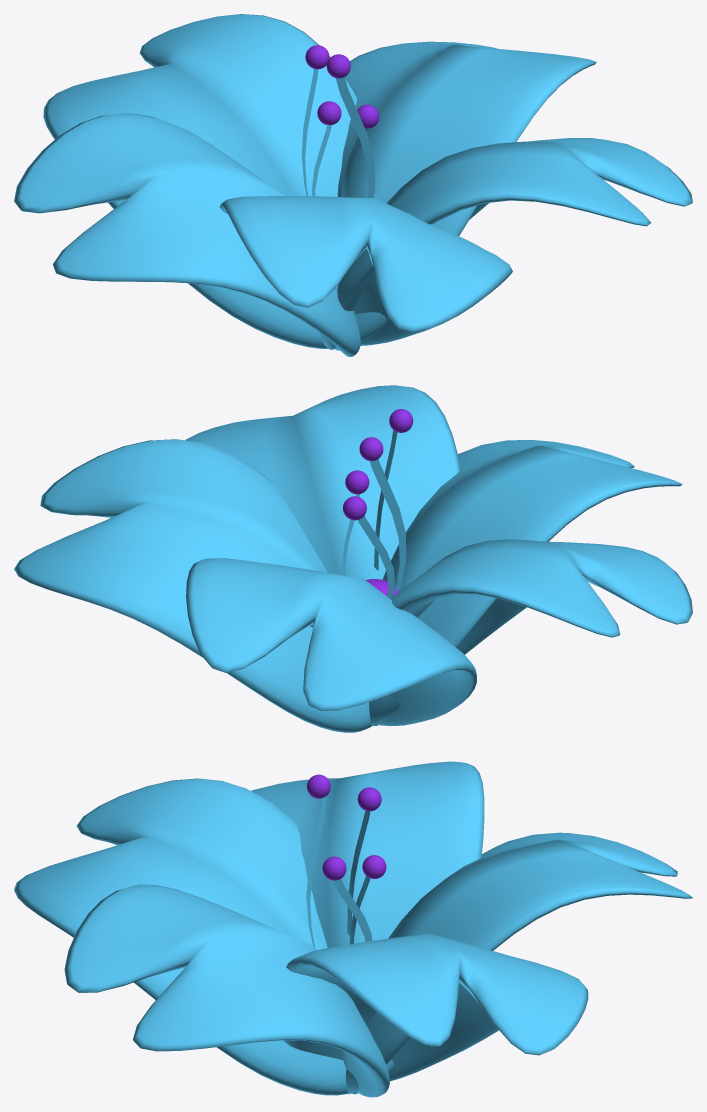
Rendered from Blume.fbx.
The picture shows the model from 3 angles, top to bottom: view 1: azimuth 30°, elevation 25°; view 2: azimuth 150°, elevation 25°; view 3: azimuth 270°, elevation 25°; orthographic projection.
Visible parts, largest first — view 1: Plane.031, Plane.027, Plane.030, Plane.028, Plane.029, Plane.034, Plane.032; view 2: Plane.028, Plane.027, Plane.029, Plane.030, Plane.031, Plane.032, Plane.035, Plane.034; view 3: Plane.030, Plane.029, Plane.028, Plane.031, Plane.027, Plane.034, Plane.032, Plane.033.
Boxes of the visible parts, x1,y1,x2,y2 form: Plane.031: (14, 113, 360, 356); Plane.027: (43, 14, 357, 348); Plane.030: (219, 196, 512, 345); Plane.028: (335, 41, 596, 350); Plane.029: (321, 138, 692, 349); Plane.034: (336, 77, 375, 197); Plane.032: (301, 69, 318, 195); Plane.028: (14, 439, 373, 732); Plane.027: (186, 558, 476, 725); Plane.029: (185, 385, 460, 725); Plane.030: (369, 440, 682, 725); Plane.031: (390, 539, 692, 654); Plane.032: (370, 459, 406, 591); Plane.035: (357, 515, 395, 598); Plane.034: (374, 430, 397, 570); Plane.030: (14, 778, 348, 1095); Plane.029: (64, 884, 389, 1097); Plane.028: (283, 933, 588, 1081); Plane.031: (251, 761, 484, 1094); Plane.027: (345, 832, 692, 1094); Plane.034: (306, 795, 327, 947); Plane.032: (347, 810, 370, 935); Plane.033: (332, 879, 371, 941).
Bounding box in the file's own units: 125 × 62.02 × 125.
